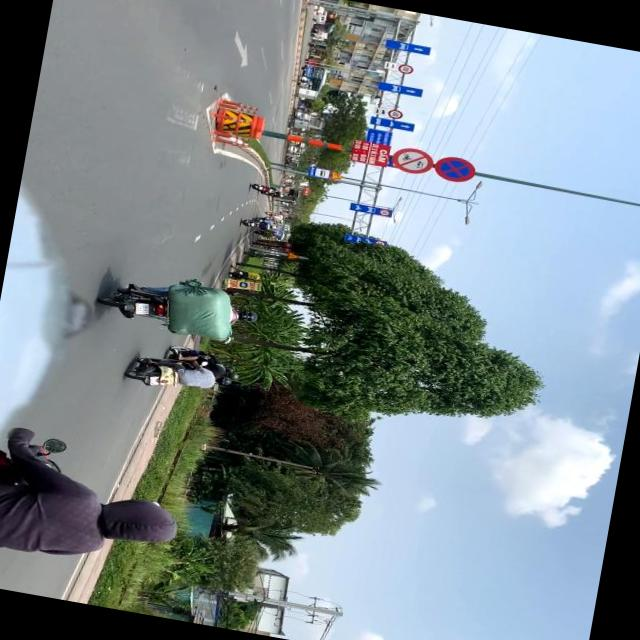P-104: (388, 144, 434, 177)
P-130: (432, 152, 478, 185)
